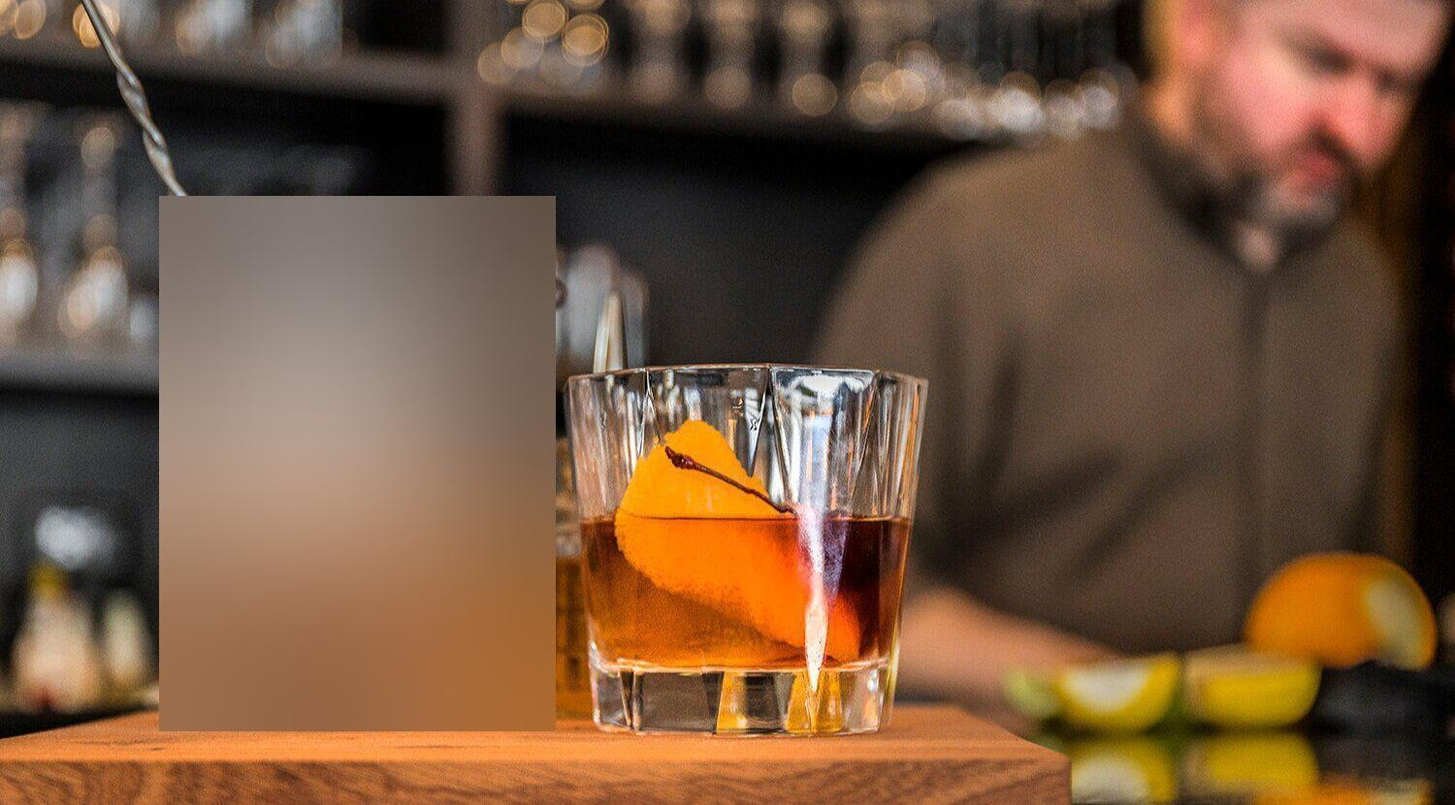glass-normal: (566, 364, 926, 736)
